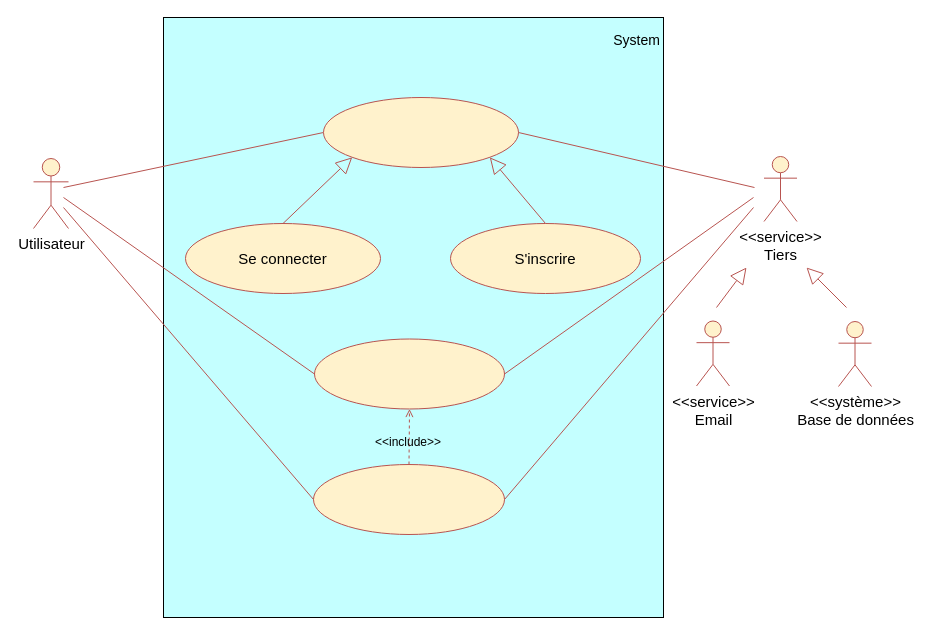
Some shapes in this 930 by 635 pixel diagram are drawn without their labels. Each missing label, with the centre of its shape:
"Mot de passe oublié" goes at (x=409, y=373).
"Réinitialiser son mot de passe" goes at (x=408, y=499).
"S'authentifier" goes at (x=420, y=132).
